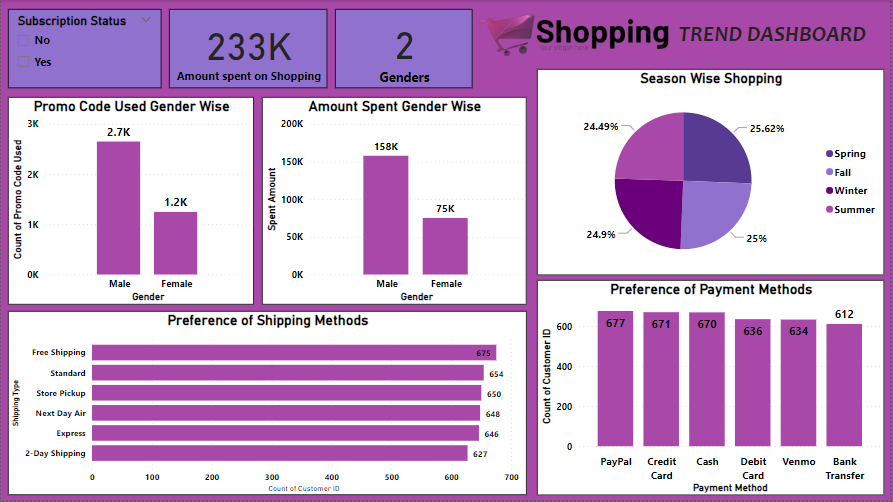

This screenshot's page, from the dashboard's own definition file:
{"tool":"powerbi","page":{"name":"Page 1","canvas":[1280,720],"ordinal":0},"visuals":[{"type":"textbox","box":[970.9,25.1,309.1,50.1],"z":0},{"type":"card","fields":{"Values":["Count(shopping_trends_updated.Gender)"]},"box":[481.5,13.4,198,114.1],"z":1000},{"type":"card","fields":{"Values":["Sum(shopping_trends_updated.Purchase Amount (USD))"]},"box":[241.6,13.4,228.2,114.1],"z":2000},{"type":"slicer","fields":{"Values":["shopping_trends_updated.Subscription Status"]},"box":[10,13.4,220.6,113.6],"z":3000},{"type":"pieChart","title":"Season Wise Shopping","fields":{"Category":["shopping_trends_updated.Season"],"Y":["CountNonNull(shopping_trends_updated.Season)"]},"box":[771.7,99,499.9,296.9],"z":4000},{"type":"columnChart","title":"Preference of Payment Methods","fields":{"Category":["shopping_trends_updated.Payment Method"],"Y":["CountNonNull(shopping_trends_updated.Customer ID)"]},"box":[771.7,402.6,499.9,310.4],"z":5000},{"type":"clusteredBarChart","title":"Preference of Shipping Methods","fields":{"Category":["shopping_trends_updated.Shipping Type"],"Y":["CountNonNull(shopping_trends_updated.Customer ID)"]},"box":[10.1,447.9,746.5,265.1],"z":6000},{"type":"columnChart","title":"Amount Spent Gender Wise ","fields":{"Category":["shopping_trends_updated.Gender"],"Y":["Sum(shopping_trends_updated.Purchase Amount (USD))"]},"box":[375.8,139.2,380.8,298.6],"z":7000},{"type":"columnChart","title":"Promo Code Used Gender Wise","fields":{"Category":["shopping_trends_updated.Gender"],"Y":["CountNonNull(shopping_trends_updated.Promo Code Used)"]},"box":[10.1,139.2,354,298.6],"z":8000},{"type":"image","box":[680.1,13.4,290.8,73.5],"z":8001}]}

Visuals, with their boxes in screenshot pixels (x1, y1, x2, y2), scaled from the page's 1280x720 canvas onto the 893x502 screenshot:
textbox: [677, 18, 892, 52]
card - Count(shopping_trends_updated.Gender): [336, 9, 474, 89]
card - Sum(shopping_trends_updated.Purchase Amount (USD)): [169, 9, 328, 89]
slicer - shopping_trends_updated.Subscription Status: [7, 9, 161, 89]
"Season Wise Shopping" pieChart: [538, 69, 887, 276]
"Preference of Payment Methods" columnChart: [538, 281, 887, 497]
"Preference of Shipping Methods" clusteredBarChart: [7, 312, 528, 497]
"Amount Spent Gender Wise " columnChart: [262, 97, 528, 305]
"Promo Code Used Gender Wise" columnChart: [7, 97, 254, 305]
image: [474, 9, 677, 61]
